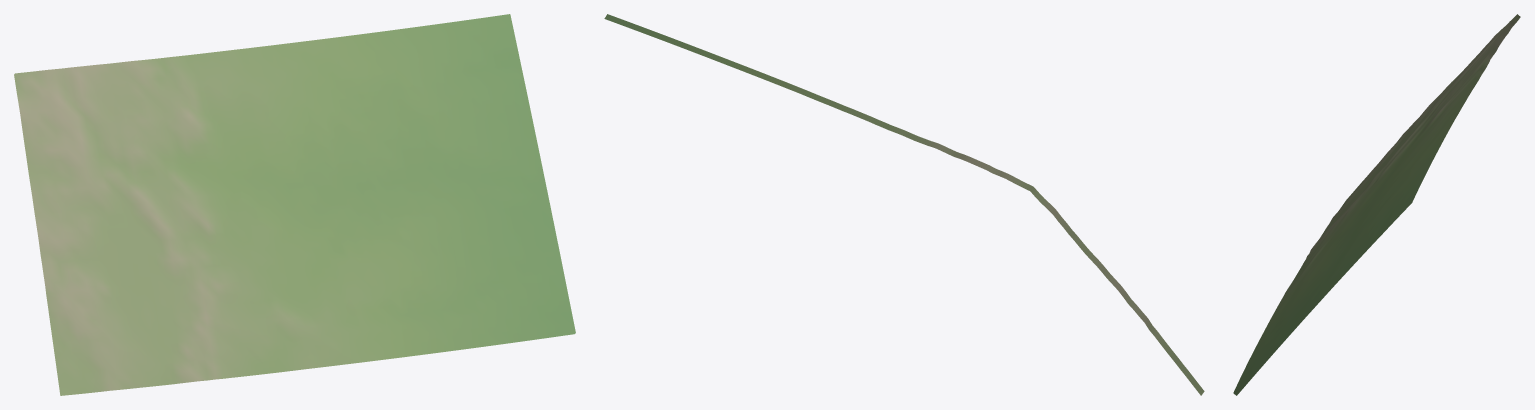
3 renders of one model, left to right at view 1: azimuth 30°, elevation 25°; view 2: azimuth 150°, elevation 25°; view 3: azimuth 270°, elevation 25°, orthographic. The views are drawn at different scales.
Visible parts, largest first — view 1: geometry_0; view 2: geometry_0; view 3: geometry_0.
Boxes of the visible parts, bbox=[...] form: geometry_0: bbox=[14, 14, 575, 395]; geometry_0: bbox=[604, 14, 1204, 395]; geometry_0: bbox=[1233, 14, 1520, 395].
Bounding box in the file's own units: 526827 × 250756 × 308620.
